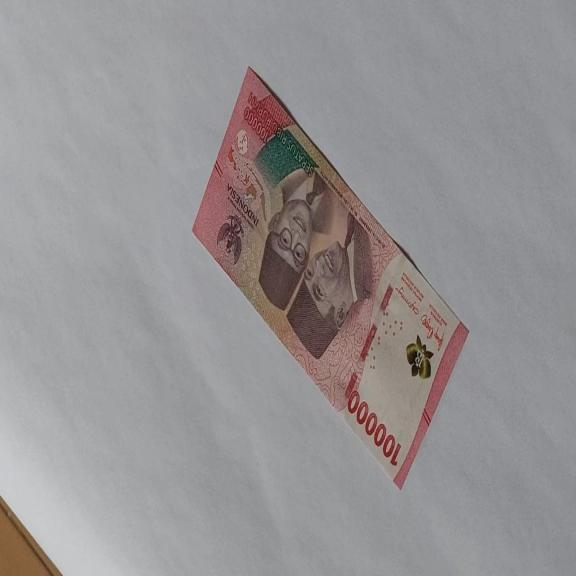Kertas: (192, 64, 470, 490), (346, 388, 402, 467)
